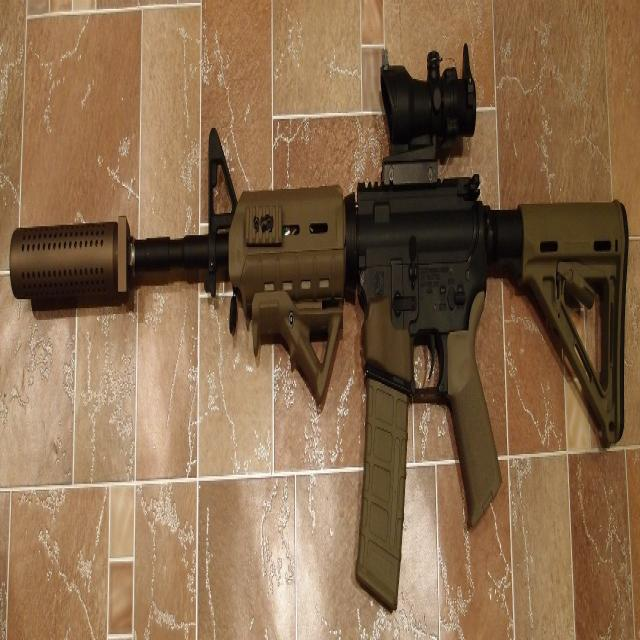firearm: (12, 45, 630, 614)
